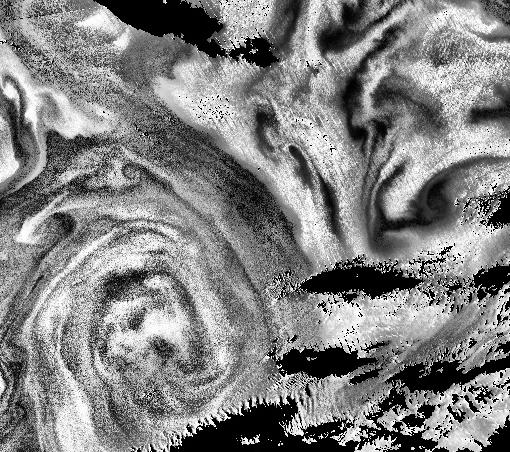AE: (32, 213, 253, 420)
